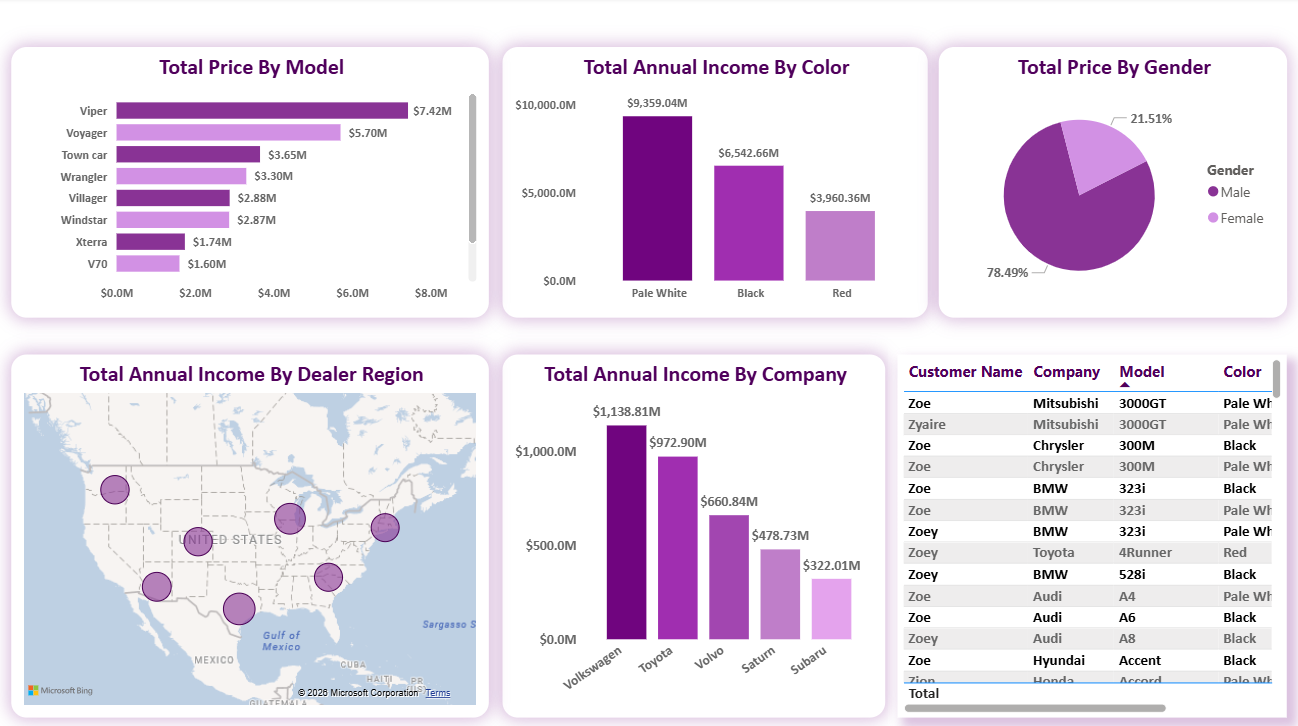

The dashboard page shown, as its layout file describes it:
{"tool":"powerbi","page":{"name":"Page 2","canvas":[1280,720],"ordinal":1},"visuals":[{"type":"columnChart","title":"Total Annual Income By Color","fields":{"Category":["car sales.Color"],"Y":["Sum(car sales.Annual Income)"]},"box":[496.7,48.5,415.8,264.5],"z":0},{"type":"barChart","title":"Total Price By Model","fields":{"Category":["car sales.Model"],"Y":["Sum(car sales.Price ($))"]},"box":[16.2,48.5,467.3,264.5],"z":1000},{"type":"pieChart","title":"Total Price By Gender","fields":{"Category":["car sales.Gender"],"Y":["Sum(car sales.Price ($))"]},"box":[922.8,48.5,340.9,264.5],"z":2000},{"type":"columnChart","title":"Total Annual Income By Company","fields":{"Category":["car sales.Company"],"Y":["Sum(car sales.Annual Income)"]},"box":[496.7,349.7,374.7,355.6],"z":3000},{"type":"map","title":"Total Annual Income By Dealer Region","fields":{"Category":["car sales.Dealer_Region"],"Size":["Sum(car sales.Annual Income)"]},"box":[16.2,349.7,467.3,355.6],"z":4000},{"type":"tableEx","fields":{"Values":["car sales.Customer Name","car sales.Company","car sales.Model","car sales.Color","Sum(car sales.Price ($))"]},"box":[883.1,349.7,380.6,355.6],"z":5000}]}

Visuals, with their boxes in screenshot pixels (x1, y1, x2, y2), scaled from the page's 1280x720 canvas onto the 1298x726 screenshot:
"Total Annual Income By Color" columnChart: 504:49:925:316
"Total Price By Model" barChart: 16:49:490:316
"Total Price By Gender" pieChart: 936:49:1281:316
"Total Annual Income By Company" columnChart: 504:353:884:711
"Total Annual Income By Dealer Region" map: 16:353:490:711
tableEx - car sales.Customer Name x car sales.Company: 896:353:1281:711
